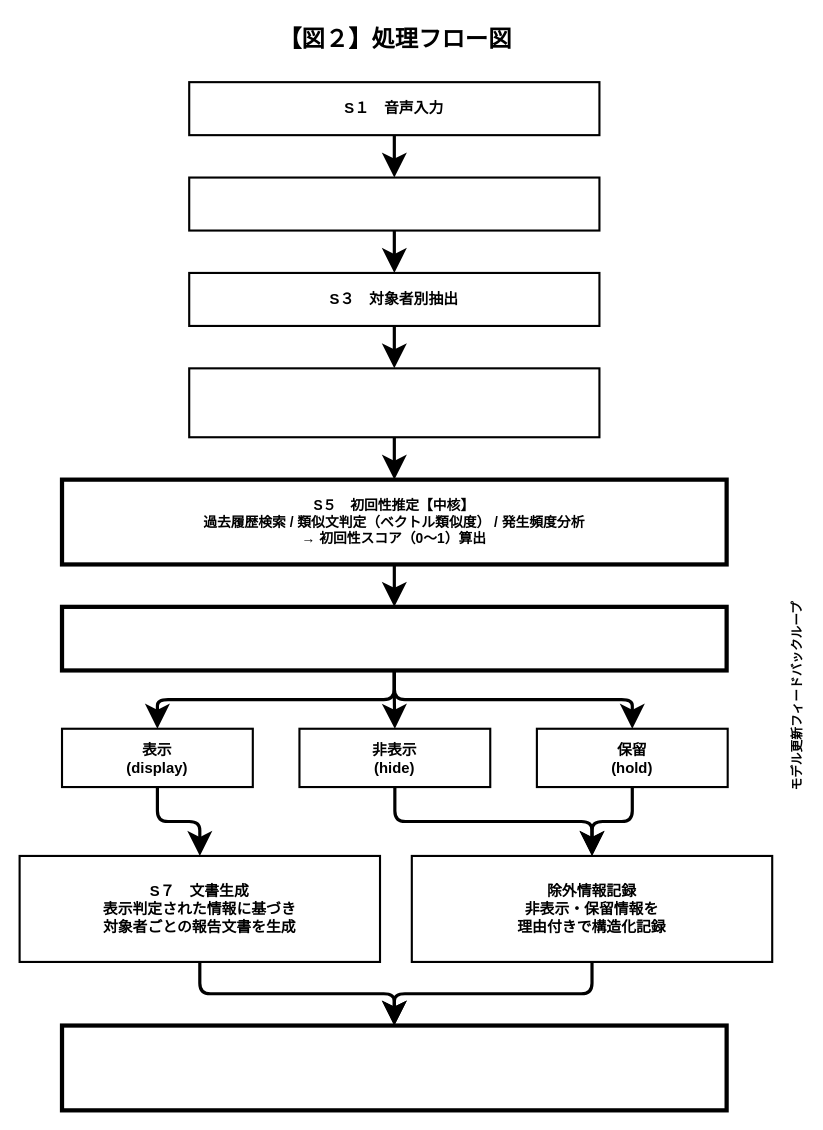
The diagram is 823 pixels wide and 1130 high, and some of its shapes have lost their labels. Here are the shapes that lost their labels. From the top down, the centre of each, then its label:
At pixel 394 203: "S２ テキスト化（音声認識）".
At pixel 394 402: "S４ 発達イベント検出 キーワード照合 / 文脈解析 / 機械学習分類".
At pixel 393 638: "S６ 開示制御【中核】 初回性スコア + 開示適切性スコア + ユーザ設定".
At pixel 393 1067: "S８ 学習更新【中核】 担当者フィードバック（承認・修正・除外解除等） → 検出モデル及び推定モデルを更新".
